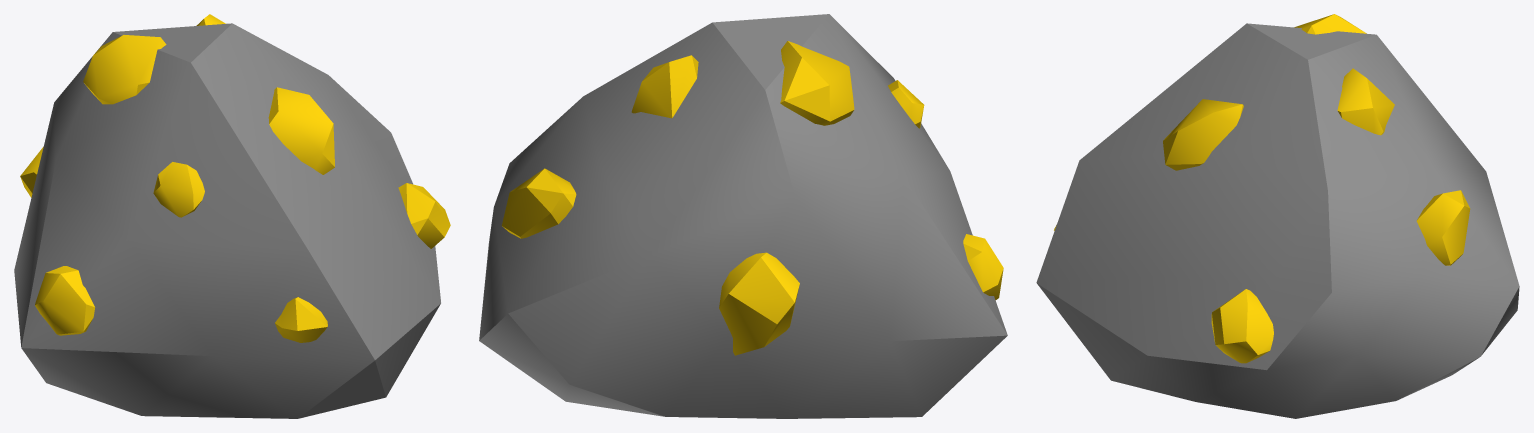
Rendered from StoneOre.fbx.
3 renders of one model, left to right at view 1: azimuth 30°, elevation 25°; view 2: azimuth 150°, elevation 25°; view 3: azimuth 270°, elevation 25°, orthographic. The views are drawn at different scales.
Parts seen in each view (by area): view 1: Stone, Ore; view 2: Stone, Ore; view 3: Stone, Ore.
Part boxes in pixels (x1=…): Stone: x1=14, y1=23, x2=440, y2=418; Ore: x1=20, y1=14, x2=450, y2=342; Stone: x1=479, y1=14, x2=1007, y2=418; Ore: x1=501, y1=41, x2=1003, y2=355; Stone: x1=1036, y1=23, x2=1519, y2=418; Ore: x1=1054, y1=14, x2=1470, y2=363.
Bounding box in the file's own units: 101 × 74.76 × 106.
